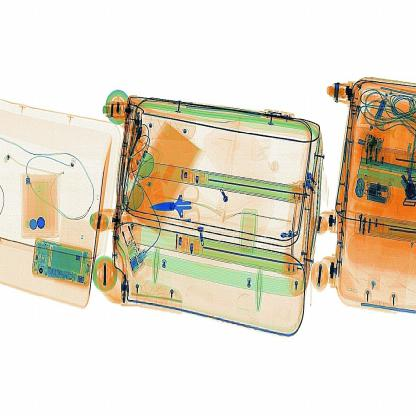gun: (151, 175, 210, 234)
